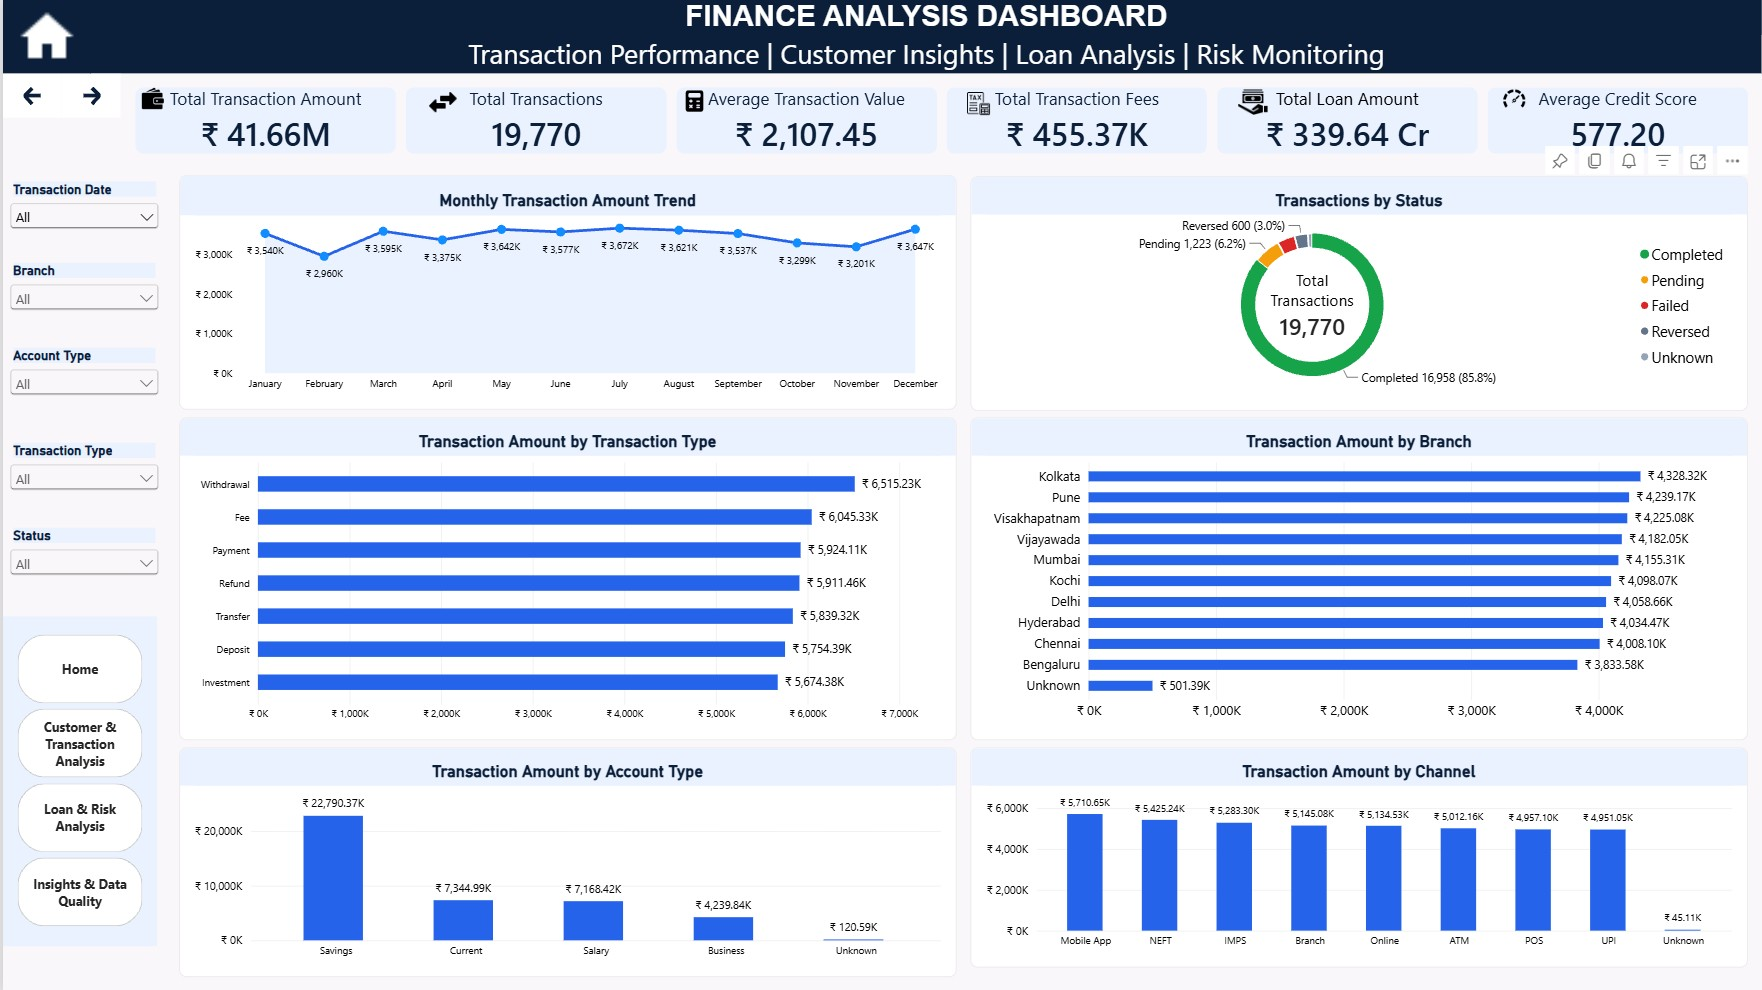

This screenshot's page, from the dashboard's own definition file:
{"tool":"powerbi","page":{"name":"Executive Overview","canvas":[1920,1080],"ordinal":1},"visuals":[{"type":"shape","title":"FINANCE ANALYSIS DASHBOARD","box":[96,0,1824,80],"z":0},{"type":"cardVisual","fields":{"Data":["Finance.Total Transaction Amount","Finance.Total Transactions","Finance.Average Transaction Value","Finance.Total Transaction Fees","Finance.Total Loan Amount Cr","Finance.Average Credit Score"]},"box":[144,96,1776,72],"z":1000},{"type":"lineChart","title":"Monthly Transaction Amount Trend","fields":{"Category":["Finance.Transaction_Date.Variation.Date Hierarchy.Month"],"Y":["Finance.Total Transaction Amount"]},"box":[192,191,848,256],"z":2000},{"type":"donutChart","title":"Transactions by Status","fields":{"Category":["Finance.Status"],"Y":["Finance.Total Transactions"]},"box":[1056,192,848,256],"z":3000},{"type":"clusteredBarChart","title":"Transaction Amount by Branch","fields":{"Category":["Finance.Branch"],"Y":["Finance.Total Transaction Amount"]},"box":[1056,456,848,352],"z":4000},{"type":"clusteredColumnChart","title":"Transaction Amount by Account Type","fields":{"Category":["Finance.Account_Type"],"Y":["Finance.Total Transaction Amount"]},"box":[192,816,848,250.6],"z":5000},{"type":"clusteredColumnChart","title":"Transaction Amount by Channel","fields":{"Category":["Finance.Channel"],"Y":["Finance.Total Transaction Amount"]},"box":[1056,816,848,240],"z":6000},{"type":"clusteredBarChart","title":"Transaction Amount by Transaction Type","fields":{"Category":["Finance.Transaction_Type"],"Y":["Finance.Total Transaction Amount"]},"box":[192,456,848,352],"z":7000},{"type":"slicer","title":"Transaction Date","fields":{"Values":["Finance.Transaction_Date.Variation.Date Hierarchy.Year"]},"box":[0,198.1,174.9,56.6],"z":8000},{"type":"slicer","fields":{"Values":["Finance.Branch"]},"box":[0,286.8,174.3,60],"z":9000},{"type":"slicer","fields":{"Values":["Finance.Account_Type"]},"box":[0,378.9,174.3,71.4],"z":10000},{"type":"slicer","fields":{"Values":["Finance.Transaction_Type"]},"box":[0,482.5,174.3,61.4],"z":11000},{"type":"slicer","fields":{"Values":["Finance.Status"]},"box":[0,576,174.3,67.1],"z":12000},{"type":"actionButton","box":[0,80,64,48],"z":13000},{"type":"actionButton","box":[64,80,64,48],"z":14000},{"type":"image","box":[0,0,96,80],"z":15000},{"type":"pageNavigator","box":[0,672,168,360],"z":16000},{"type":"image","box":[96,96,136,24],"z":17000},{"type":"image","box":[416,96,128,32],"z":18000},{"type":"image","box":[736,96,48,28],"z":19000},{"type":"image","box":[912,96,304,32],"z":20000},{"type":"image","box":[1240,96,248,32],"z":21000},{"type":"image","box":[1528,96,240,24],"z":22000}]}

Visuals, with their boxes in screenshot pixels (x1, y1, x2, y2), scaled from the page's 1920x1080 canvas onto the 1762x990 screenshot:
"FINANCE ANALYSIS DASHBOARD" shape: 88,0,1761,73
cardVisual - Finance.Total Transaction Amount x Finance.Total Transactions: 132,88,1761,154
"Monthly Transaction Amount Trend" lineChart: 176,175,954,410
"Transactions by Status" donutChart: 969,176,1747,411
"Transaction Amount by Branch" clusteredBarChart: 969,418,1747,741
"Transaction Amount by Account Type" clusteredColumnChart: 176,748,954,978
"Transaction Amount by Channel" clusteredColumnChart: 969,748,1747,968
"Transaction Amount by Transaction Type" clusteredBarChart: 176,418,954,741
"Transaction Date" slicer: 0,182,161,233
slicer - Finance.Branch: 0,263,160,318
slicer - Finance.Account_Type: 0,347,160,413
slicer - Finance.Transaction_Type: 0,442,160,499
slicer - Finance.Status: 0,528,160,590
actionButton: 0,73,59,117
actionButton: 59,73,117,117
image: 0,0,88,73
pageNavigator: 0,616,154,946
image: 88,88,213,110
image: 382,88,499,117
image: 675,88,719,114
image: 837,88,1116,117
image: 1138,88,1366,117
image: 1402,88,1623,110
